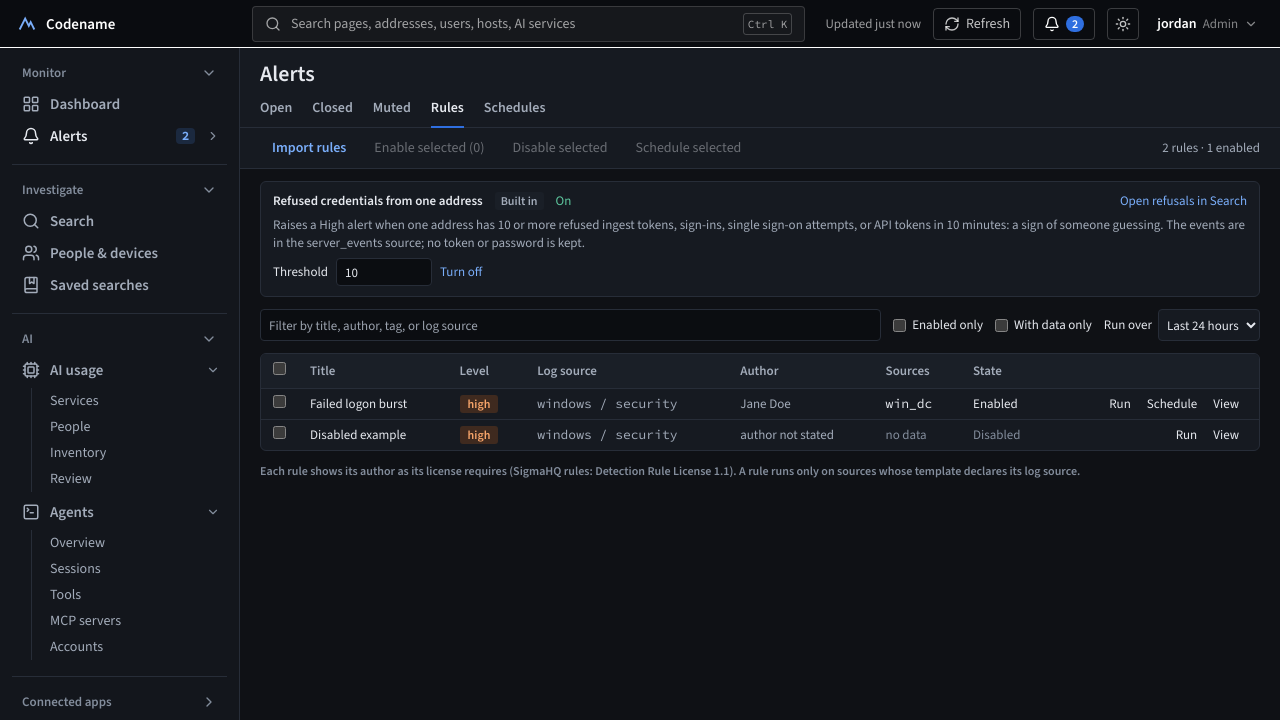
Detection rules › enables selected rules and shows import refusals with reasons
What coordinates should you click on to do the following:
click the checkbox named "Select Disabled example"
I would click on:
 (280, 432)
Its box is [273,426,286,439].
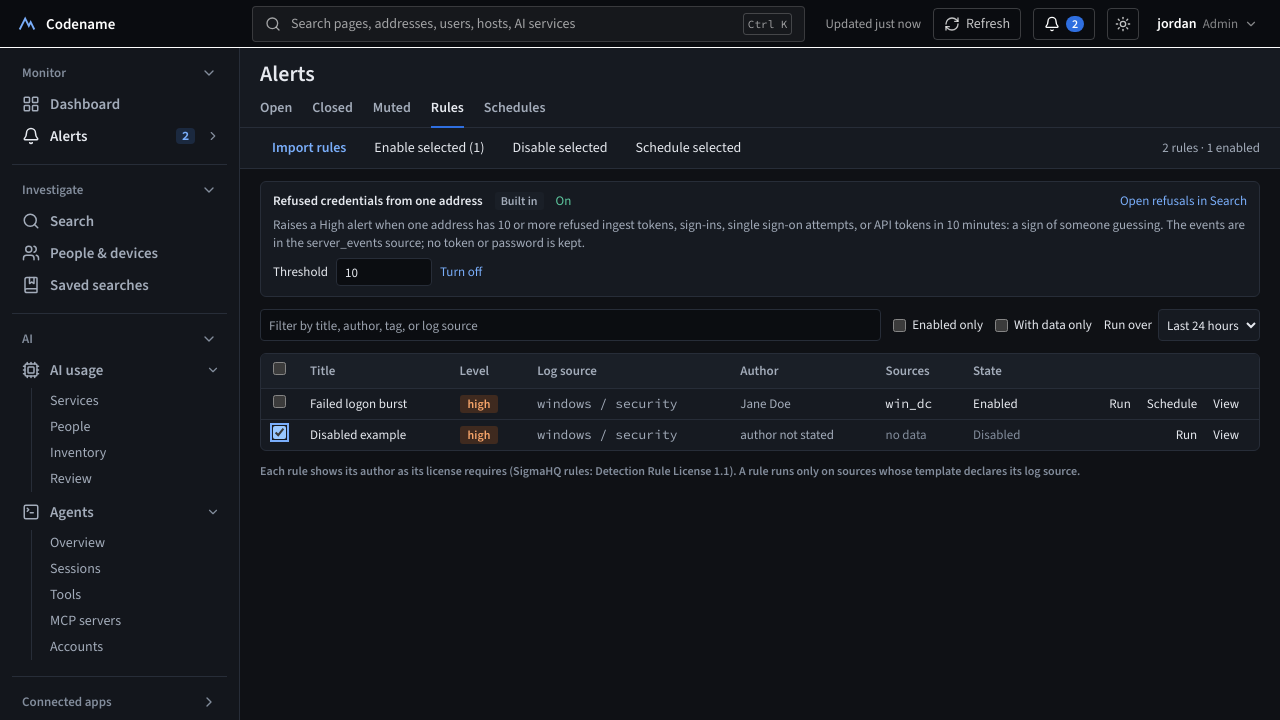
What coordinates should you click on to do the following:
click the button "Enable selected (1)"
I would click on:
 (429, 148)
Its box is [362,132,496,164].
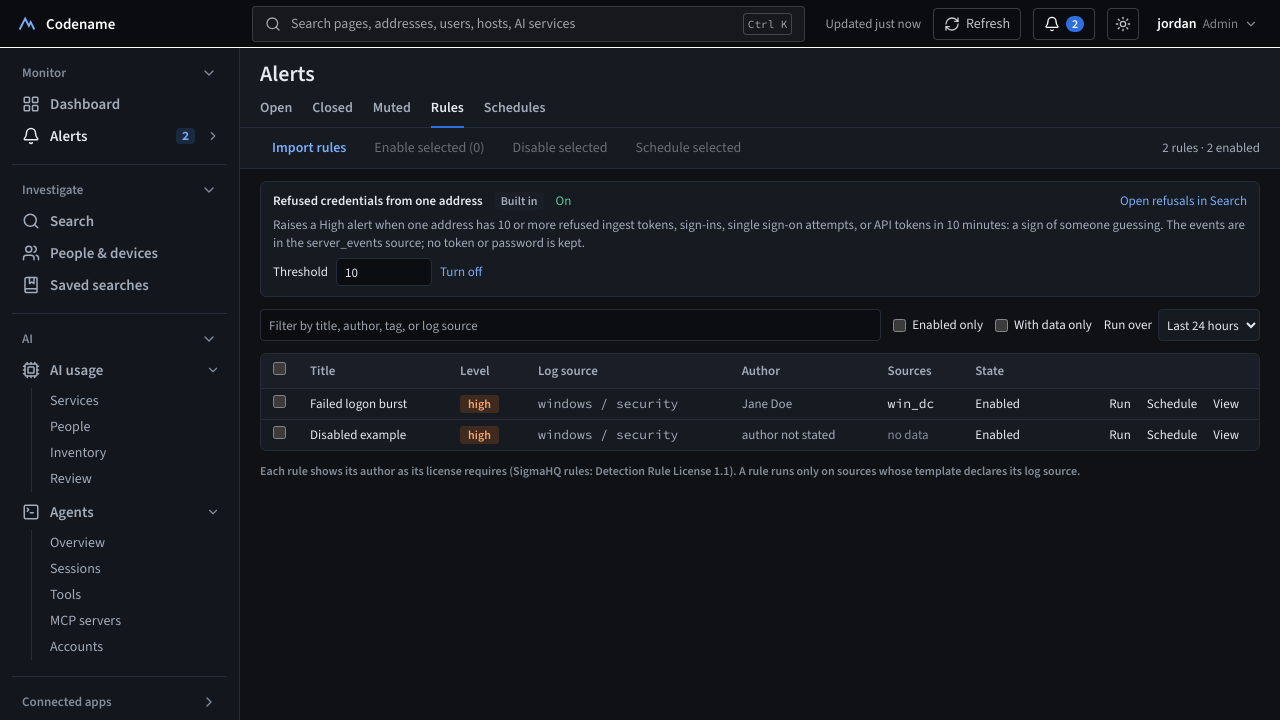
What coordinates should you click on to do the following:
click the button "Import rules"
I would click on:
 (309, 148)
Its box is [260,132,358,164].
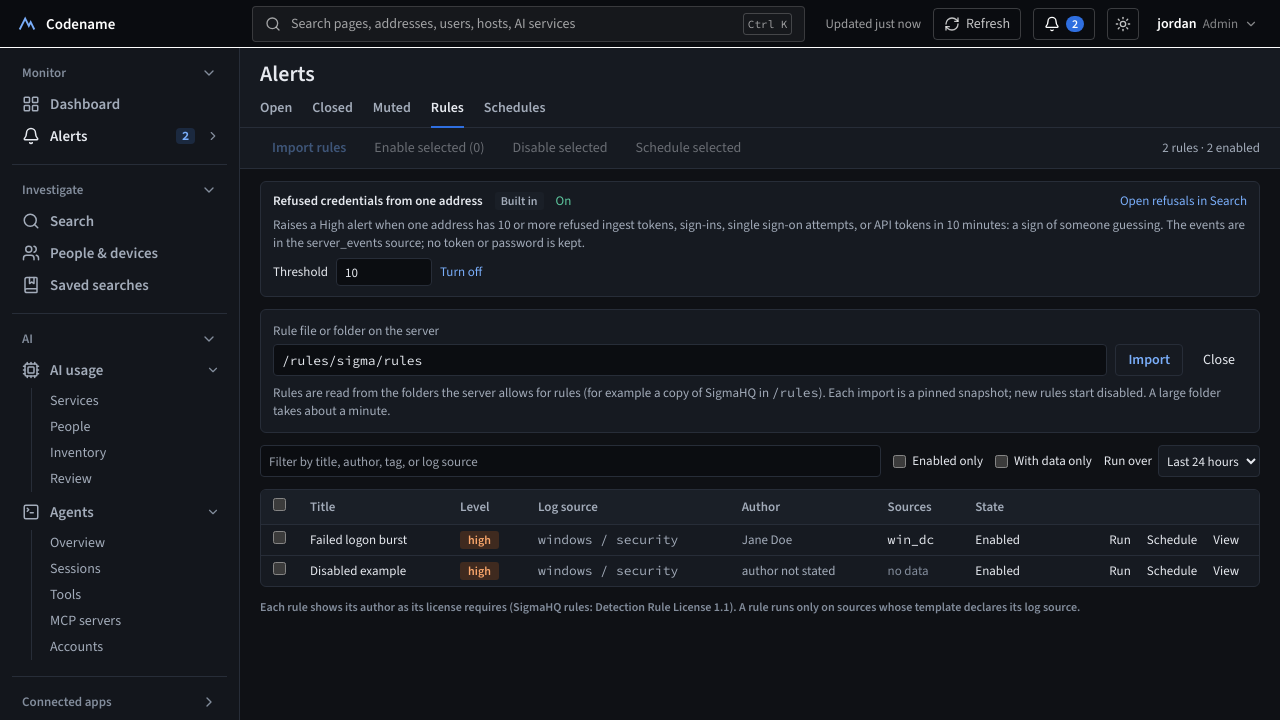
What coordinates should you click on to do the following:
click the button "Import"
I would click on:
 (1149, 360)
Its box is [1115,344,1183,376].
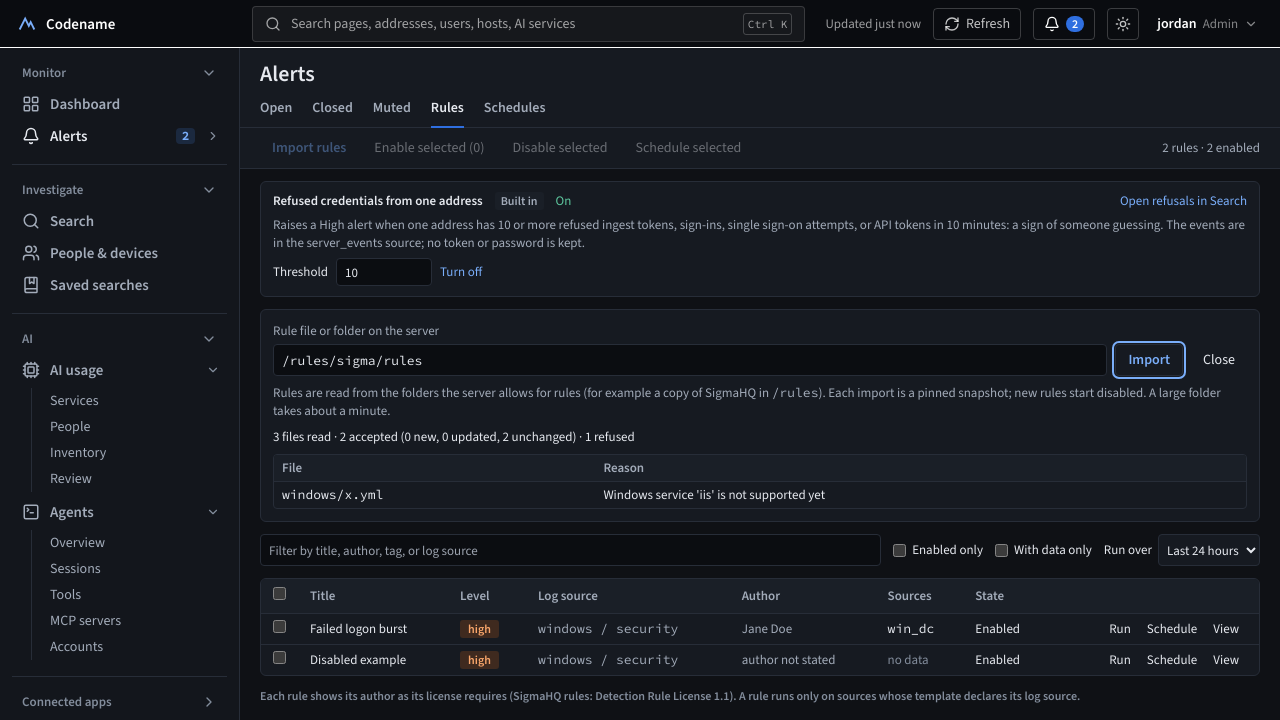
Expected: the text "Windows service 'iis' is not supported yet" is shown, [595,482,1246,508]
